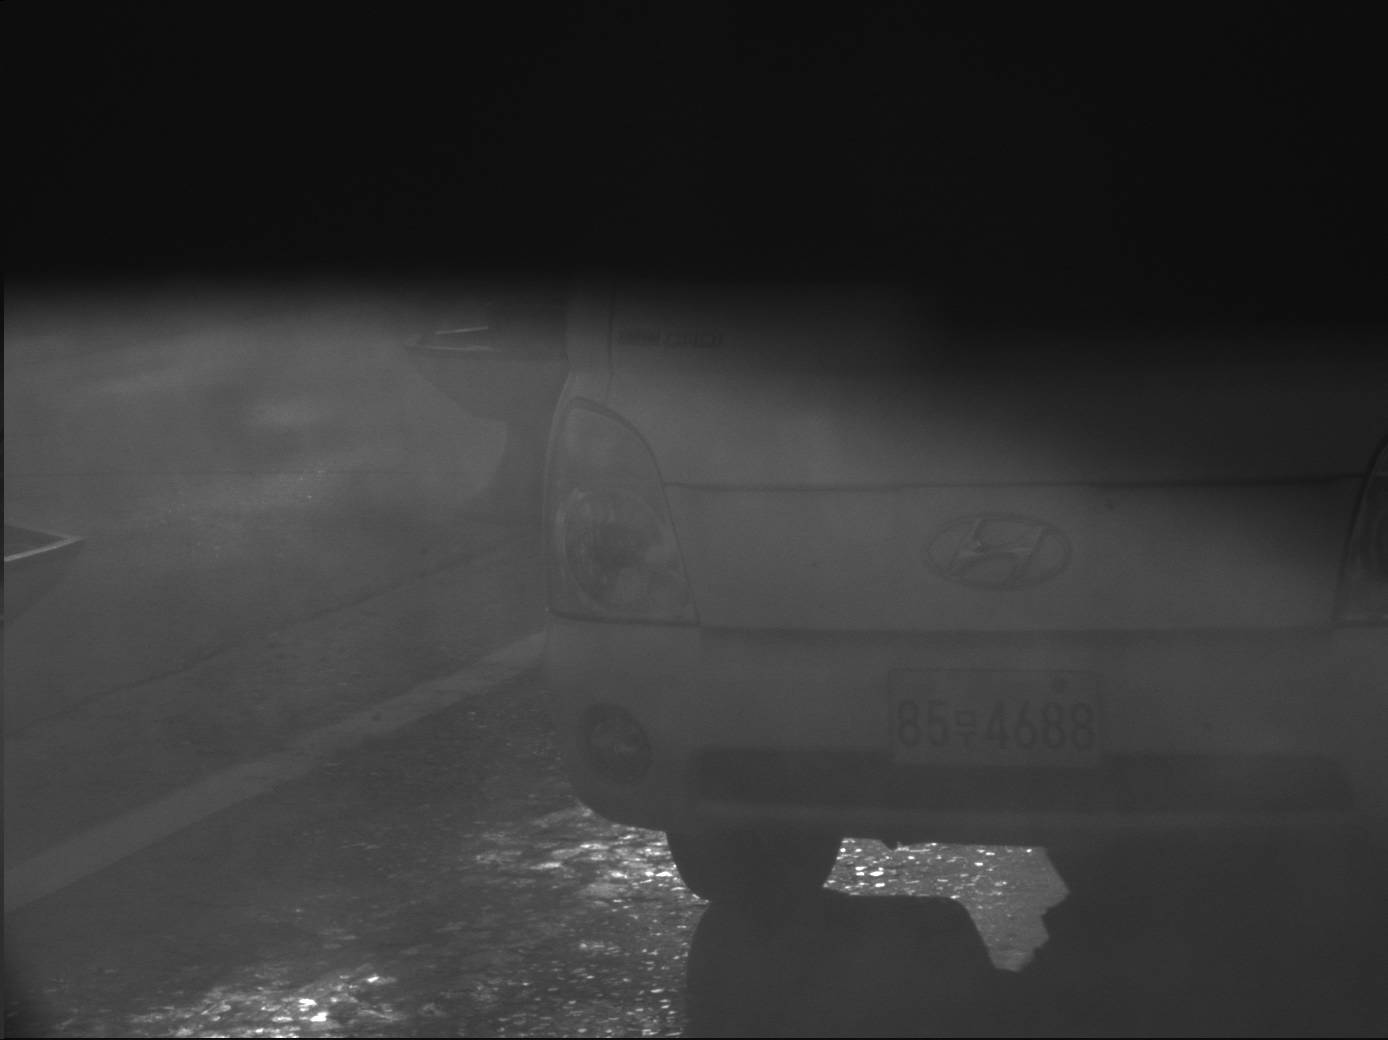car: (397, 1, 1382, 902)
plate: (887, 663, 1113, 776)
